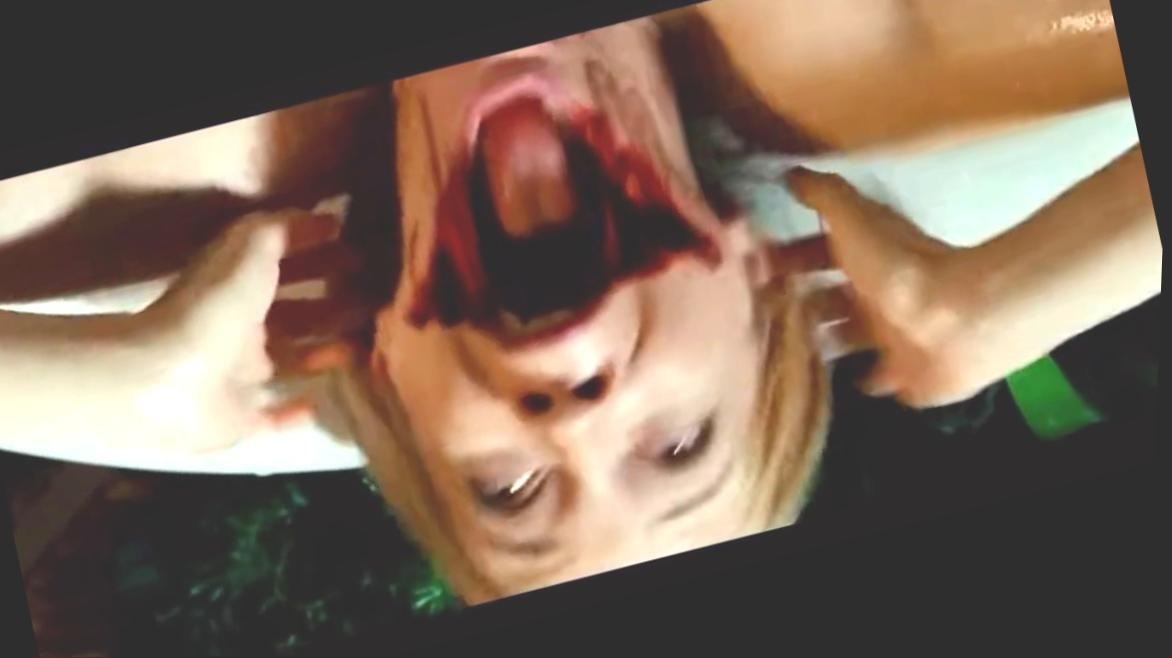Fire: (410, 89, 724, 343)
